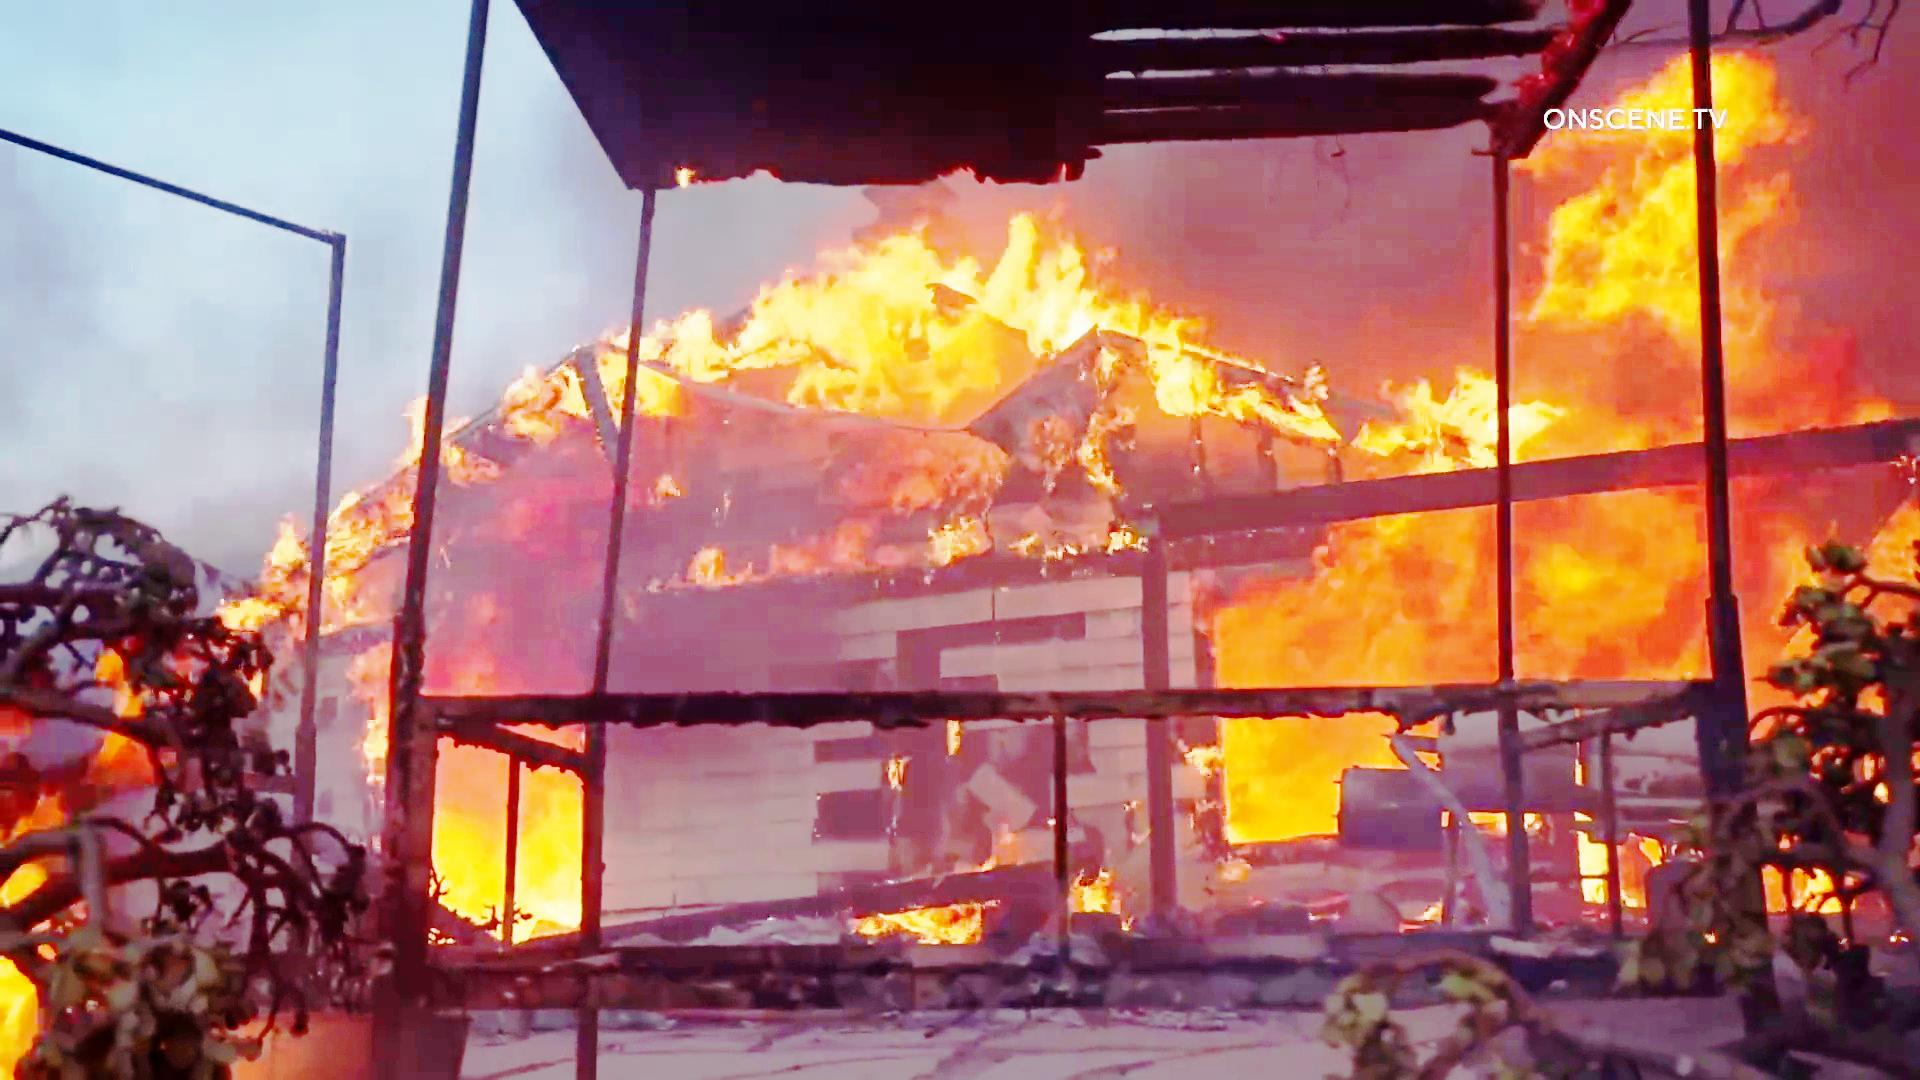fire: (1133, 290, 1497, 840), (1511, 167, 1898, 665), (686, 183, 1113, 422), (443, 741, 583, 926)
